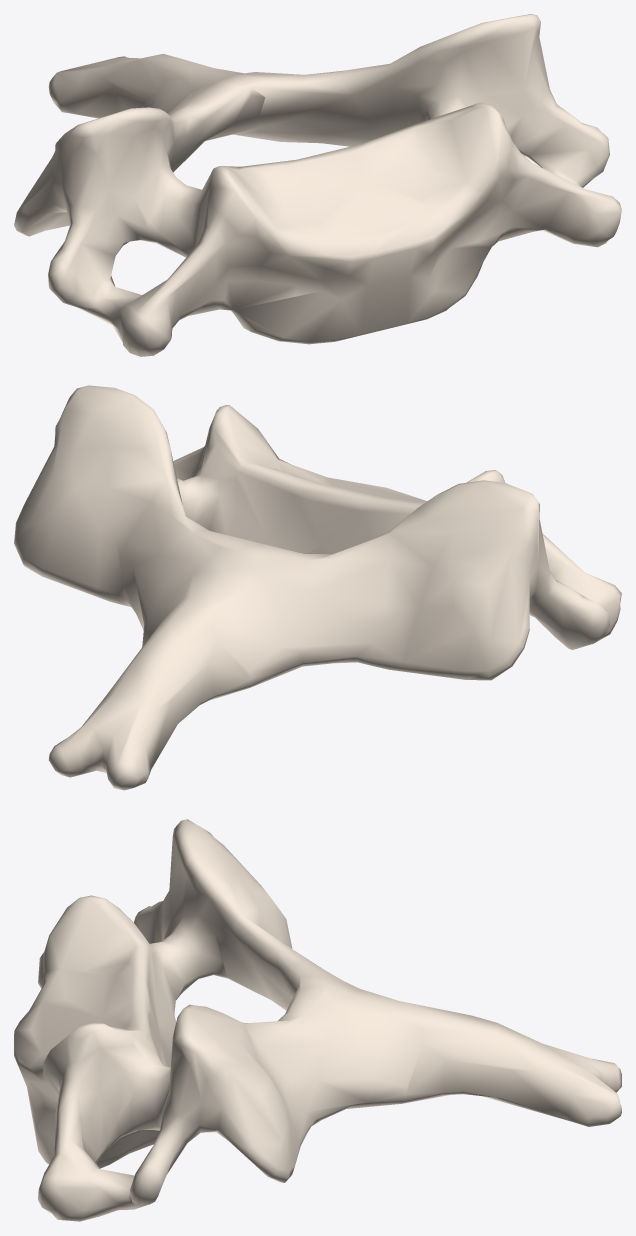
The picture shows the model from 3 angles, top to bottom: view 1: azimuth 30°, elevation 25°; view 2: azimuth 150°, elevation 25°; view 3: azimuth 270°, elevation 25°; orthographic projection.
Parts seen in each view (by area): view 1: Cervical vertebrae (C6); view 2: Cervical vertebrae (C6); view 3: Cervical vertebrae (C6).
Boxes of the visible parts, x1,y1,x2,y2 form: Cervical vertebrae (C6): [14, 14, 621, 356]; Cervical vertebrae (C6): [14, 385, 621, 790]; Cervical vertebrae (C6): [14, 819, 621, 1221].
Bounding box in the file's own units: 0.0657 × 0.0242 × 0.063.
